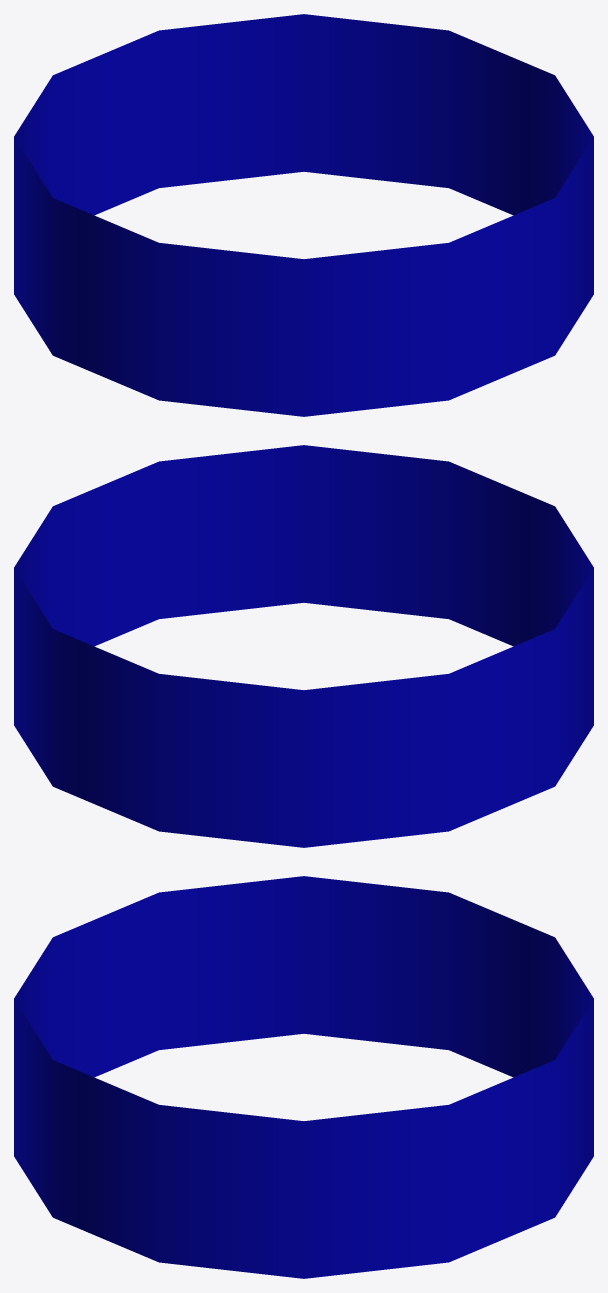
Rendered from original-6.obj.
The picture shows the model from 3 angles, top to bottom: view 1: azimuth 30°, elevation 25°; view 2: azimuth 150°, elevation 25°; view 3: azimuth 270°, elevation 25°; orthographic projection.
Parts seen in each view (by area): view 1: #ID25; view 2: #ID25; view 3: #ID25.
Boxes of the visible parts, x1,y1,x2,y2 form: #ID25: [14, 14, 593, 416]; #ID25: [14, 445, 593, 847]; #ID25: [14, 876, 593, 1278].
Bounding box in the file's own units: 0.0408 × 0.0122 × 0.0408.
